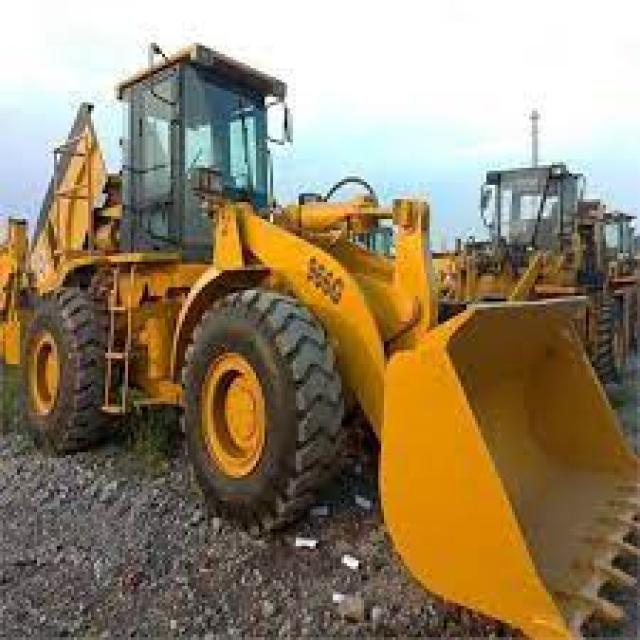buldozerpayloadergrader: (17, 49, 640, 640)
